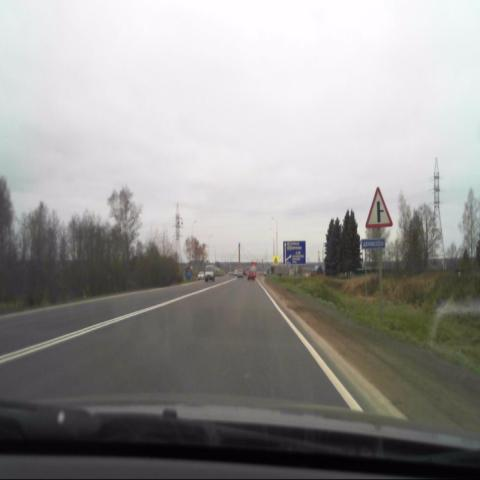2_3_2: (364, 184, 392, 227)
